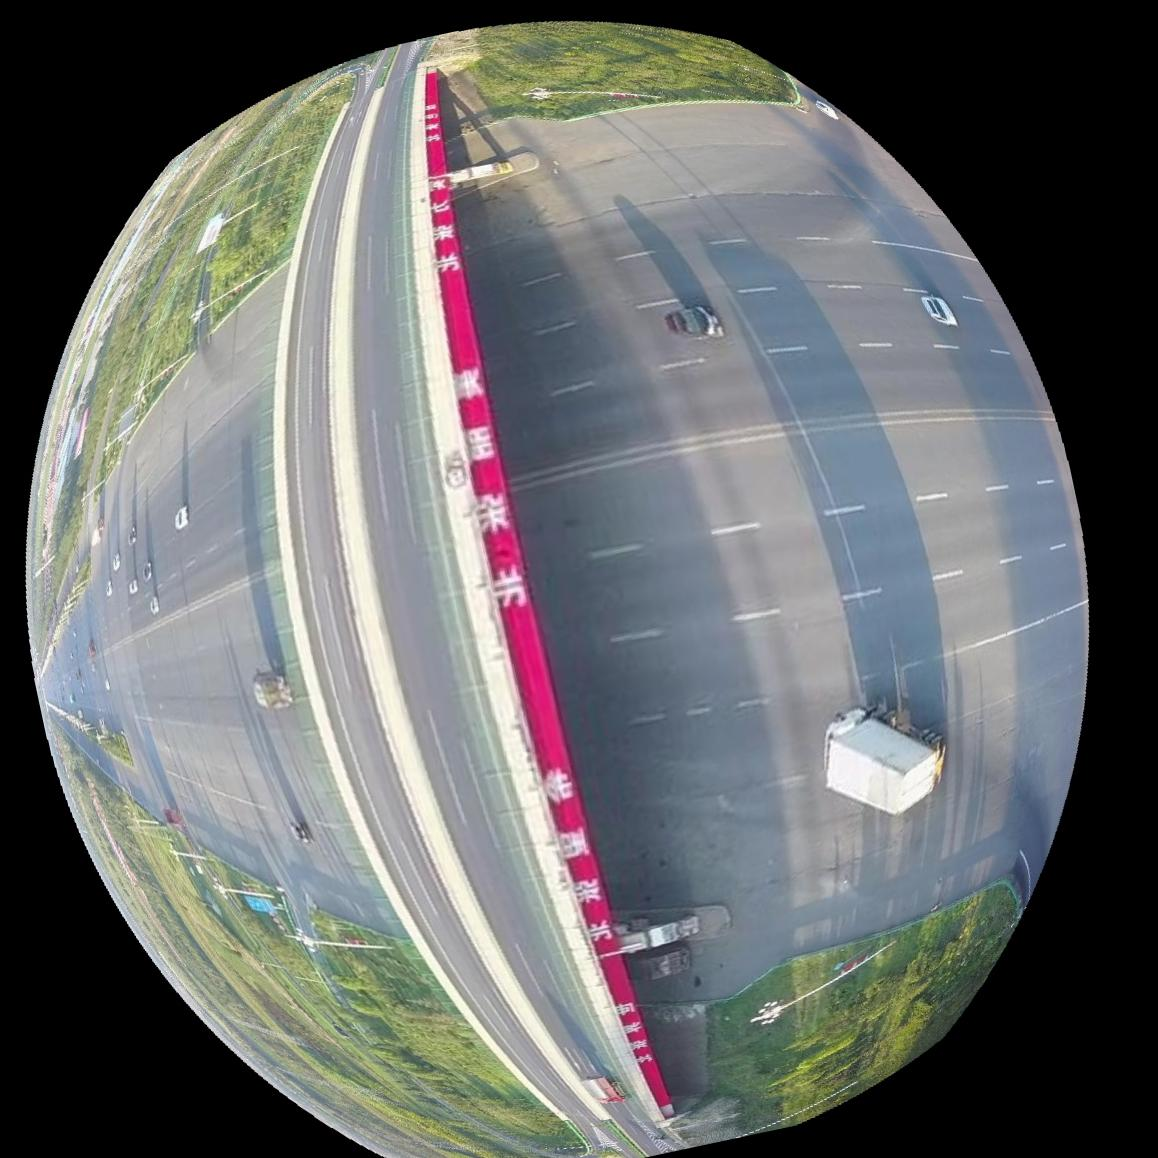cars: (825, 707, 946, 814), (664, 298, 725, 337), (251, 668, 294, 710), (923, 291, 959, 324), (172, 502, 189, 528)
trees: (115, 838, 579, 1158), (708, 884, 1019, 1134), (468, 19, 800, 118)
